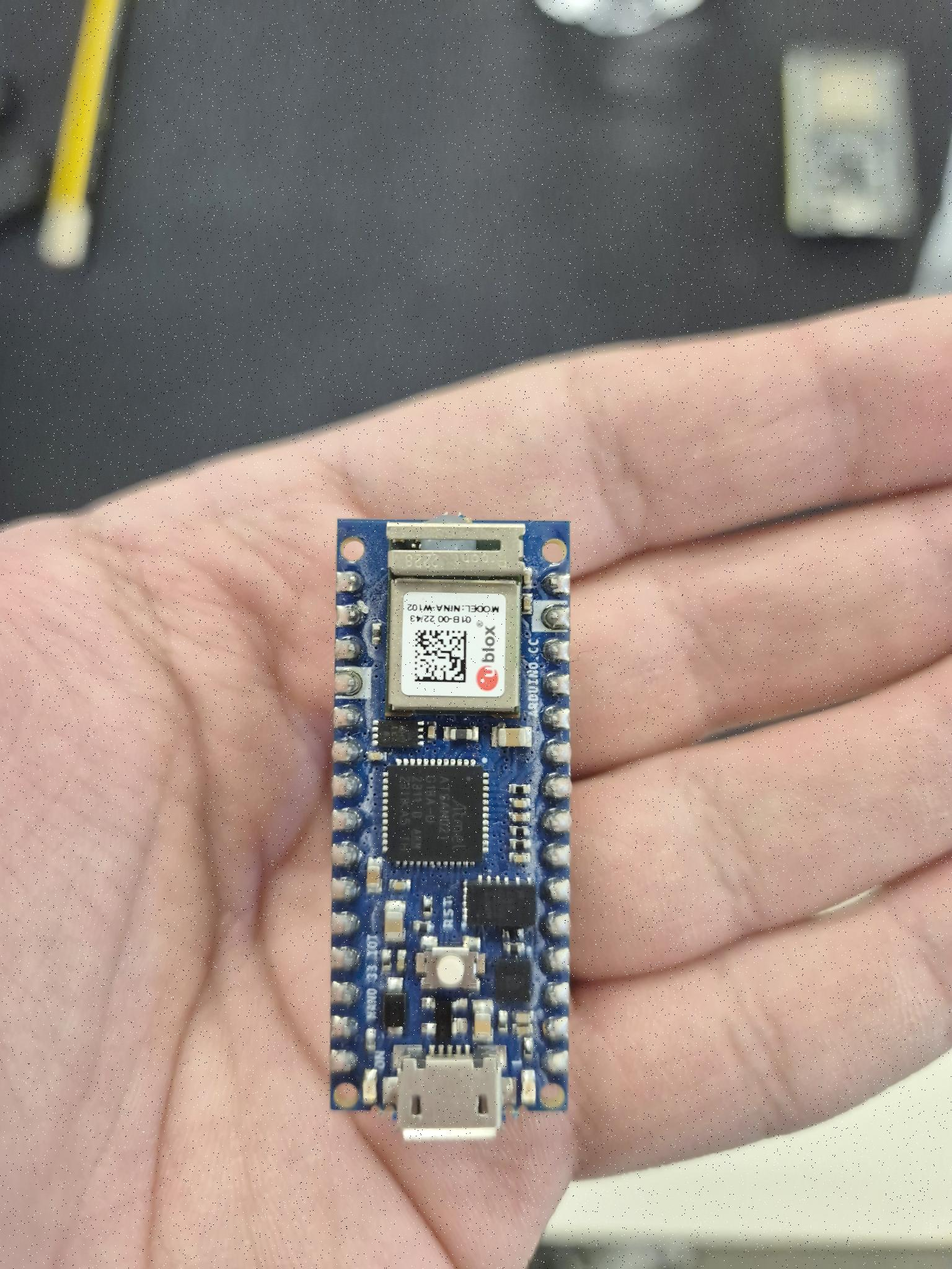arduino-nano-iot-33: (335, 514, 570, 1117)
